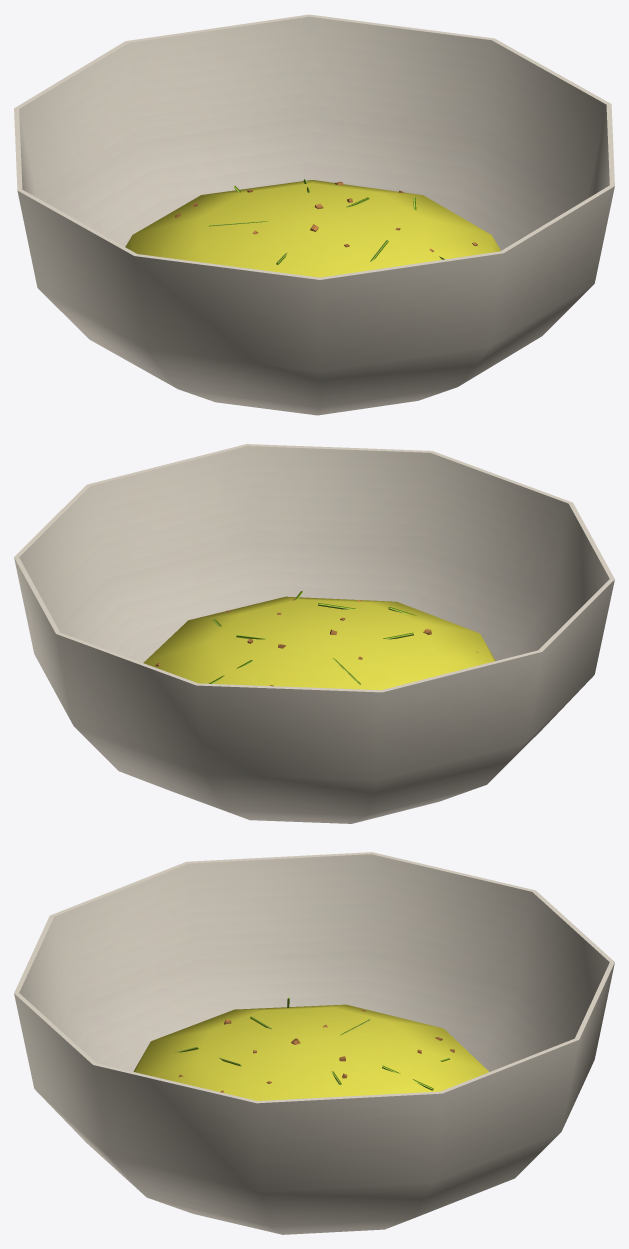
Rendered from MincedVeg.FBX.
3 views of the same model, one above another, from view 1: azimuth 30°, elevation 25°; view 2: azimuth 150°, elevation 25°; view 3: azimuth 270°, elevation 25° (orthographic). The views are drawn at different scales.
Parts seen in each view (by area): view 1: MincedVeg; view 2: MincedVeg; view 3: MincedVeg.
Boxes of the visible parts, box(x1,y1,x2,y2) form: MincedVeg: box(14, 14, 614, 415); MincedVeg: box(14, 444, 614, 823); MincedVeg: box(14, 852, 614, 1234).
Size of the model in its own units: 11.88 by 4.41 by 12.01.
